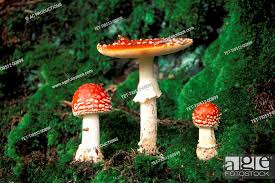Amanita muscaria: (96, 32, 193, 154), (67, 76, 111, 157), (185, 100, 229, 156)
